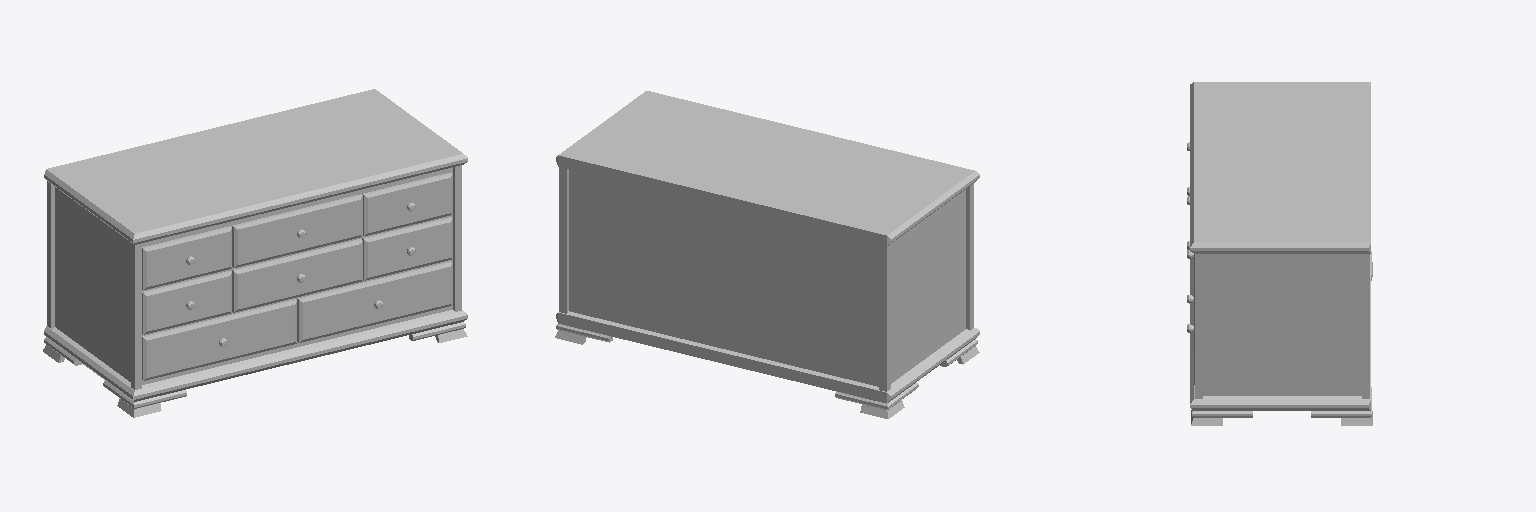
File: dresser.obj
3 renders of one model, left to right at view 1: azimuth 30°, elevation 25°; view 2: azimuth 150°, elevation 25°; view 3: azimuth 270°, elevation 25°, orthographic.
Parts seen in each view (by area): view 1: dresser; view 2: dresser; view 3: dresser.
Boxes of the visible parts, <box> form: dresser: <box>43,89,467,417</box>; dresser: <box>555,91,979,418</box>; dresser: <box>1187,82,1372,425</box>.
Bounding box in the file's own units: 183 × 97.76 × 88.05.